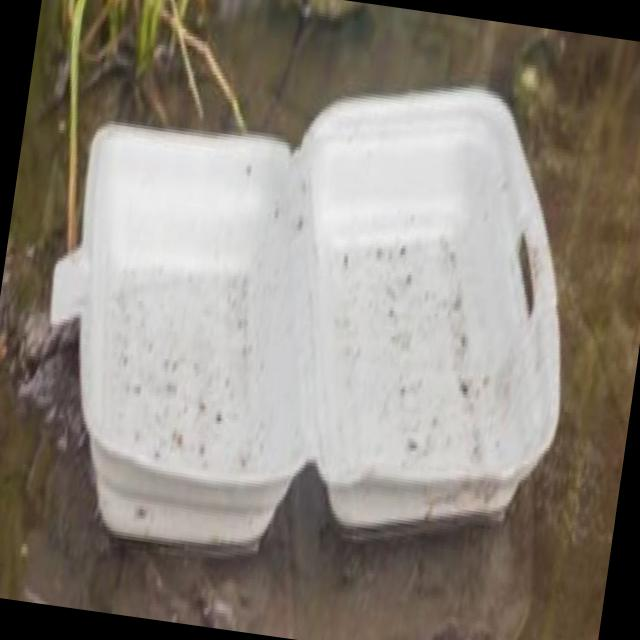electronic: (17, 24, 605, 600)
